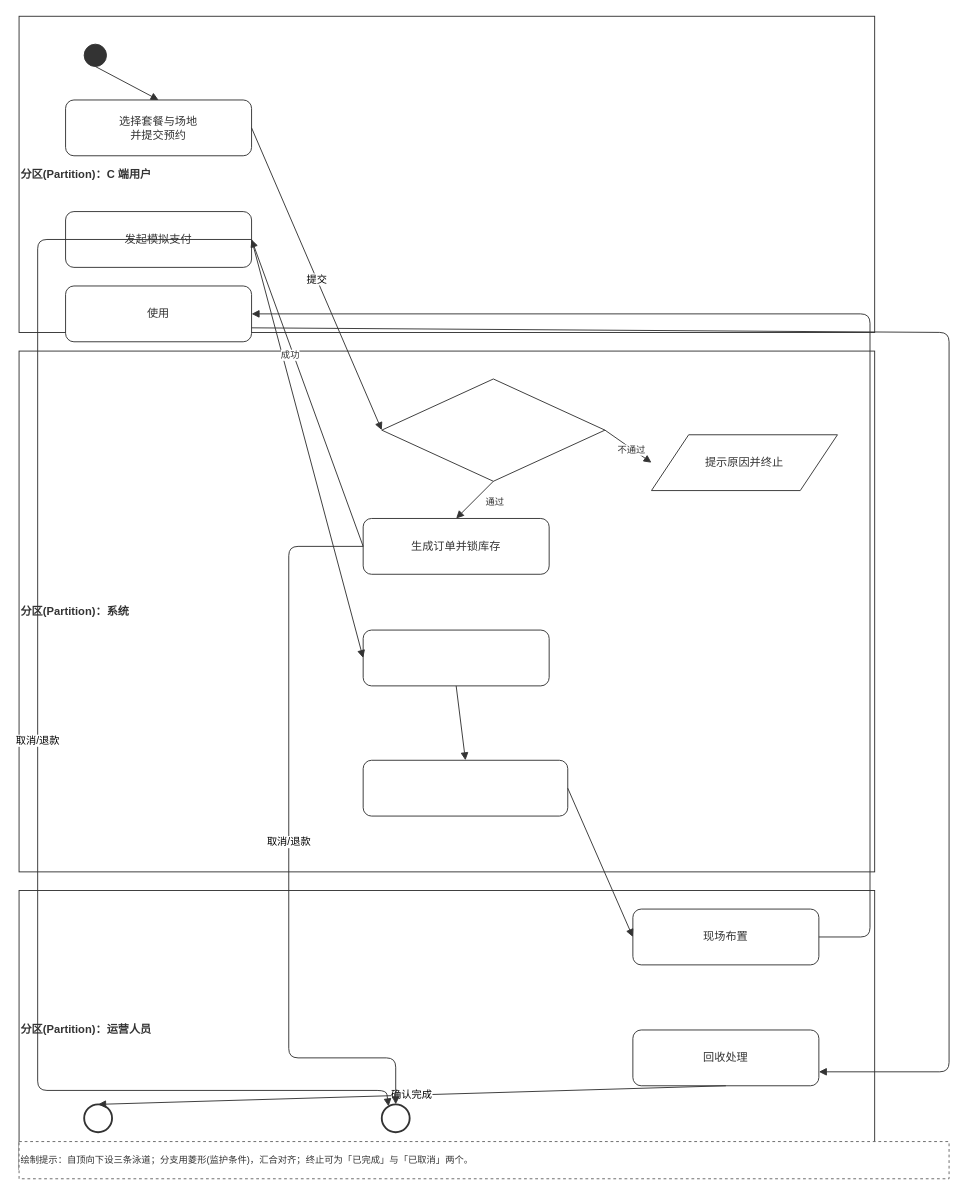
Some shapes in this 973 by 1195 pixel diagram are drawn without their labels. The centre of each missing label's shape, as x and y in pixels:
"创建配送任务并派单" goes at pixel 465 787.
"四重校验 (套餐上架/周期/容量/库存)" goes at pixel 493 429.
"已取消" goes at pixel 395 1118.
"已完成" goes at pixel 98 1118.
"订单置已支付" goes at pixel 455 657.
